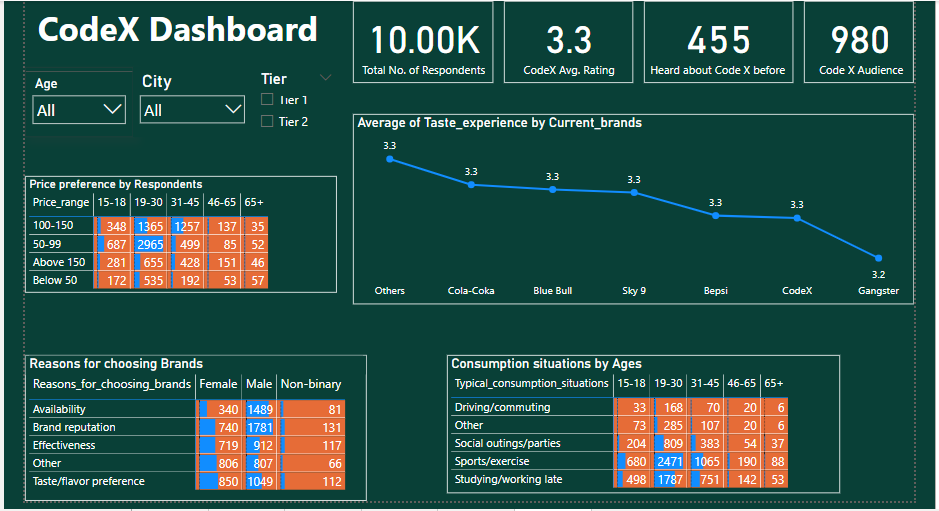

What the dashboard file says about the page in this screenshot:
{"tool":"powerbi","page":{"name":"Page 6","canvas":[1280,720],"ordinal":5},"visuals":[{"type":"textbox","box":[0,0,456.5,80.6],"z":0},{"type":"slicer","fields":{"Values":["dim_repondents.Age"]},"box":[0,95,155.5,100.8],"z":1000},{"type":"slicer","fields":{"Values":["dim_cities.City"]},"box":[155.5,95,171.4,100.8],"z":2000},{"type":"slicer","fields":{"Values":["dim_cities.Tier"]},"box":[326.9,95,128.2,100.8],"z":3000},{"type":"card","fields":{"Values":["CountNonNull(fact_survey_responses.Respondent_ID)"]},"box":[472.3,0,201.6,118.1],"z":4000},{"type":"card","fields":{"Values":["fact_survey_responses.CodeX Avg. Rating"]},"box":[689.8,0,185.8,118.1],"z":5000},{"type":"card","fields":{"Values":["fact_survey_responses.CodeX Audience"]},"box":[891.4,0,214.6,118.1],"z":6000},{"type":"card","fields":{"Values":["fact_survey_responses.CodeX"]},"box":[1121.6,0,158.4,118.1],"z":7000},{"type":"lineChart","fields":{"Category":["fact_survey_responses.Current_brands"],"Y":["Avg(fact_survey_responses.Taste_experience)"]},"box":[472.3,162.7,807.8,273.6],"z":8000},{"type":"pivotTable","title":"Price preference by Respondents","fields":{"Rows":["fact_survey_responses.Price_range"],"Columns":["dim_repondents.Age"],"Values":["CountNonNull(dim_repondents.Respondent_ID)"]},"box":[0,252,449.3,168.5],"z":9000},{"type":"pivotTable","title":"Consumption situations by Ages","fields":{"Rows":["fact_survey_responses.Typical_consumption_situations"],"Columns":["dim_repondents.Age"],"Values":["CountNonNull(dim_repondents.Respondent_ID)"]},"box":[607.7,509.8,565.9,198.7],"z":10000},{"type":"pivotTable","title":"Reasons for choosing Brands","fields":{"Rows":["fact_survey_responses.Reasons_for_choosing_brands"],"Columns":["dim_repondents.Gender"],"Values":["CountNonNull(dim_repondents.Respondent_ID)"]},"box":[0,509.8,492.5,210.2],"z":12000}]}

Visuals, with their boxes on the page's 1280x720 design canvas (x1, y1, x2, y2). These are canvas units, not pixel positions in the 939x511 screenshot, which may show the page scaled, cropped or inside an application window:
textbox: crop(0, 0, 456, 81)
slicer - dim_repondents.Age: crop(0, 95, 156, 196)
slicer - dim_cities.City: crop(156, 95, 327, 196)
slicer - dim_cities.Tier: crop(327, 95, 455, 196)
card - CountNonNull(fact_survey_responses.Respondent_ID): crop(472, 0, 674, 118)
card - fact_survey_responses.CodeX Avg. Rating: crop(690, 0, 876, 118)
card - fact_survey_responses.CodeX Audience: crop(891, 0, 1106, 118)
card - fact_survey_responses.CodeX: crop(1122, 0, 1280, 118)
lineChart - fact_survey_responses.Current_brands x Avg(fact_survey_responses.Taste_experience): crop(472, 163, 1280, 436)
"Price preference by Respondents" pivotTable: crop(0, 252, 449, 420)
"Consumption situations by Ages" pivotTable: crop(608, 510, 1174, 708)
"Reasons for choosing Brands" pivotTable: crop(0, 510, 492, 720)
